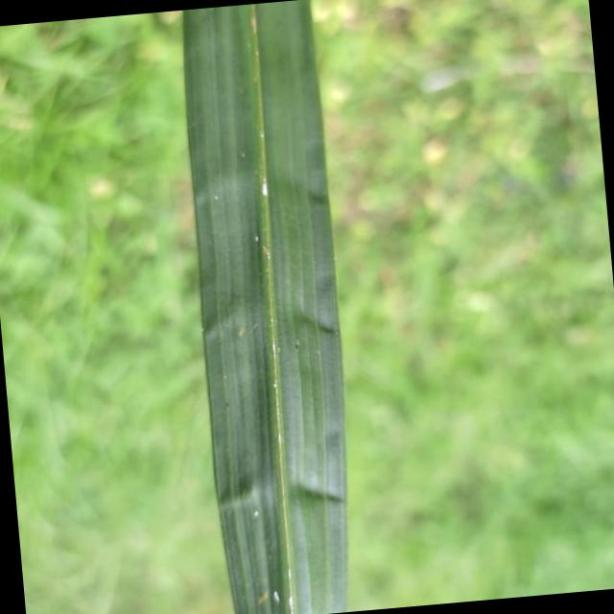Boron: (179, 5, 345, 614)
